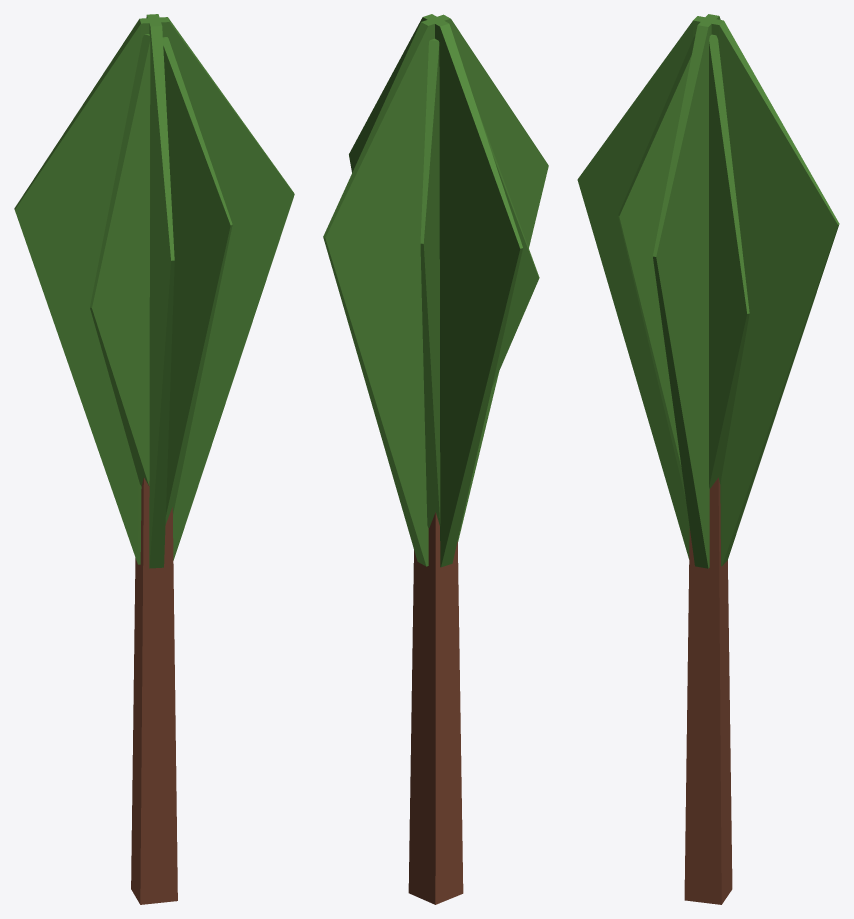
File: Tree_33_summer_vc.fbx
The picture shows the model from 3 angles, left to right: view 1: azimuth 30°, elevation 25°; view 2: azimuth 150°, elevation 25°; view 3: azimuth 270°, elevation 25°; orthographic projection.
Parts seen in each view (by area): view 1: Tree_33_summer_vc; view 2: Tree_33_summer_vc; view 3: Tree_33_summer_vc.
Boxes of the visible parts, box(x1,y1,x2,y2) form: Tree_33_summer_vc: box(14, 14, 294, 904); Tree_33_summer_vc: box(323, 14, 548, 904); Tree_33_summer_vc: box(577, 14, 839, 904).
Bounding box in the file's own units: 2.2 × 8.1 × 2.2.
